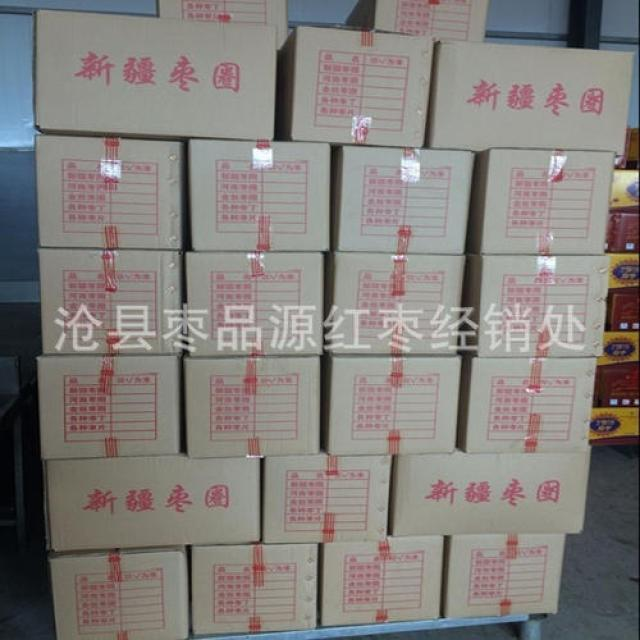box: (35, 9, 278, 140), (426, 40, 635, 156), (45, 455, 263, 554), (274, 26, 437, 149), (34, 135, 183, 250), (392, 449, 590, 534), (186, 139, 332, 250), (39, 354, 183, 461), (460, 252, 608, 356), (39, 250, 184, 354), (464, 154, 613, 255), (185, 251, 326, 357), (180, 355, 324, 457), (334, 148, 473, 252), (326, 253, 464, 356), (324, 356, 462, 456), (454, 356, 596, 452), (51, 545, 191, 638), (190, 544, 320, 637), (319, 535, 444, 627), (263, 455, 392, 542), (442, 534, 567, 619), (157, 1, 288, 46), (345, 1, 487, 42)
